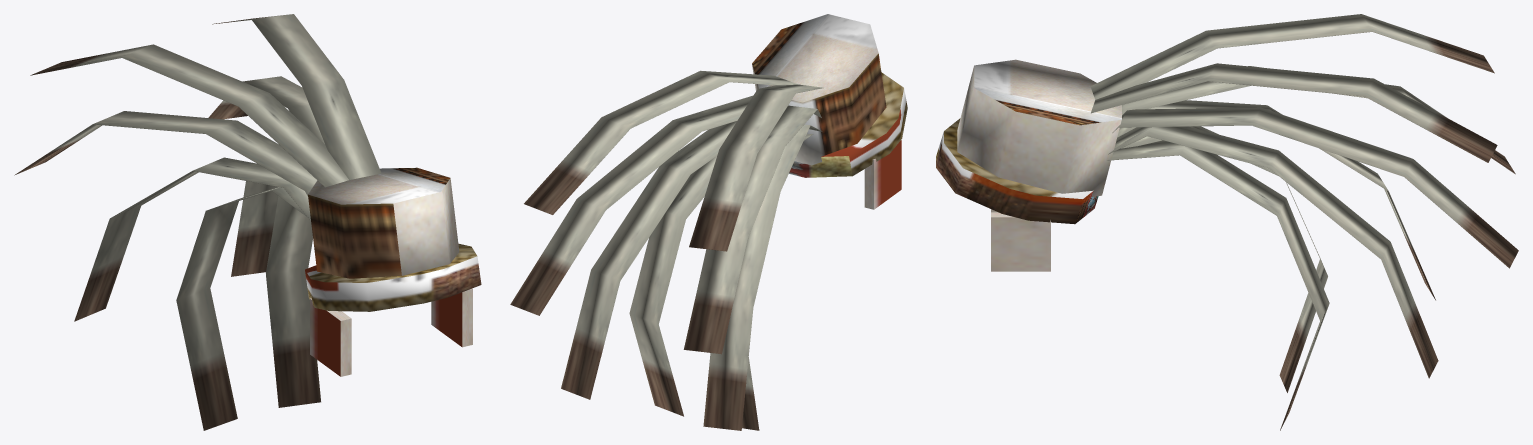
3 renders of one model, left to right at view 1: azimuth 30°, elevation 25°; view 2: azimuth 150°, elevation 25°; view 3: azimuth 270°, elevation 25°, orthographic. The views are drawn at different scales.
Visible parts, largest first — view 1: helmet_n_2_1; view 2: helmet_n_2_1; view 3: helmet_n_2_1.
Boxes of the visible parts, x1,y1,x2,y2 form: helmet_n_2_1: [14, 14, 481, 430]; helmet_n_2_1: [510, 14, 907, 430]; helmet_n_2_1: [936, 14, 1518, 430].
Size of the model in its own units: 0.9484 by 2.09 by 1.36.
